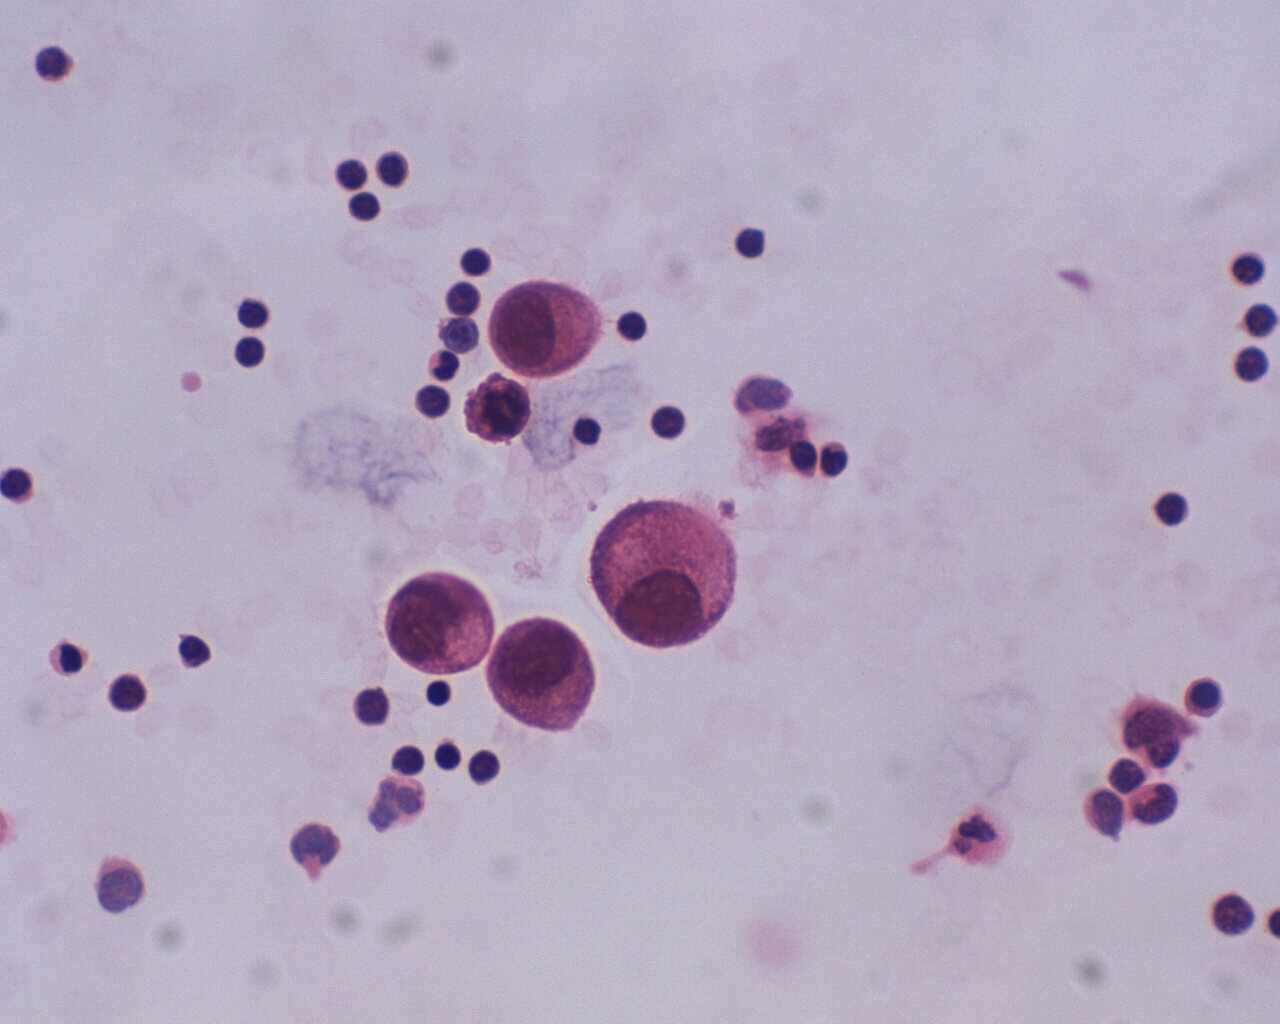ab: (382, 565, 497, 685), (482, 614, 596, 735), (459, 369, 534, 449)
lymph: (722, 223, 779, 270), (99, 671, 155, 719), (1227, 241, 1270, 296), (1149, 485, 1196, 534), (370, 145, 417, 192), (227, 294, 280, 334), (408, 380, 453, 427), (31, 41, 82, 84), (229, 332, 275, 375), (567, 408, 610, 453), (1232, 344, 1275, 389), (331, 152, 372, 195), (430, 734, 467, 776), (616, 300, 650, 346), (455, 242, 491, 282), (420, 673, 455, 711)
meso: (586, 493, 746, 653), (486, 277, 609, 381)
